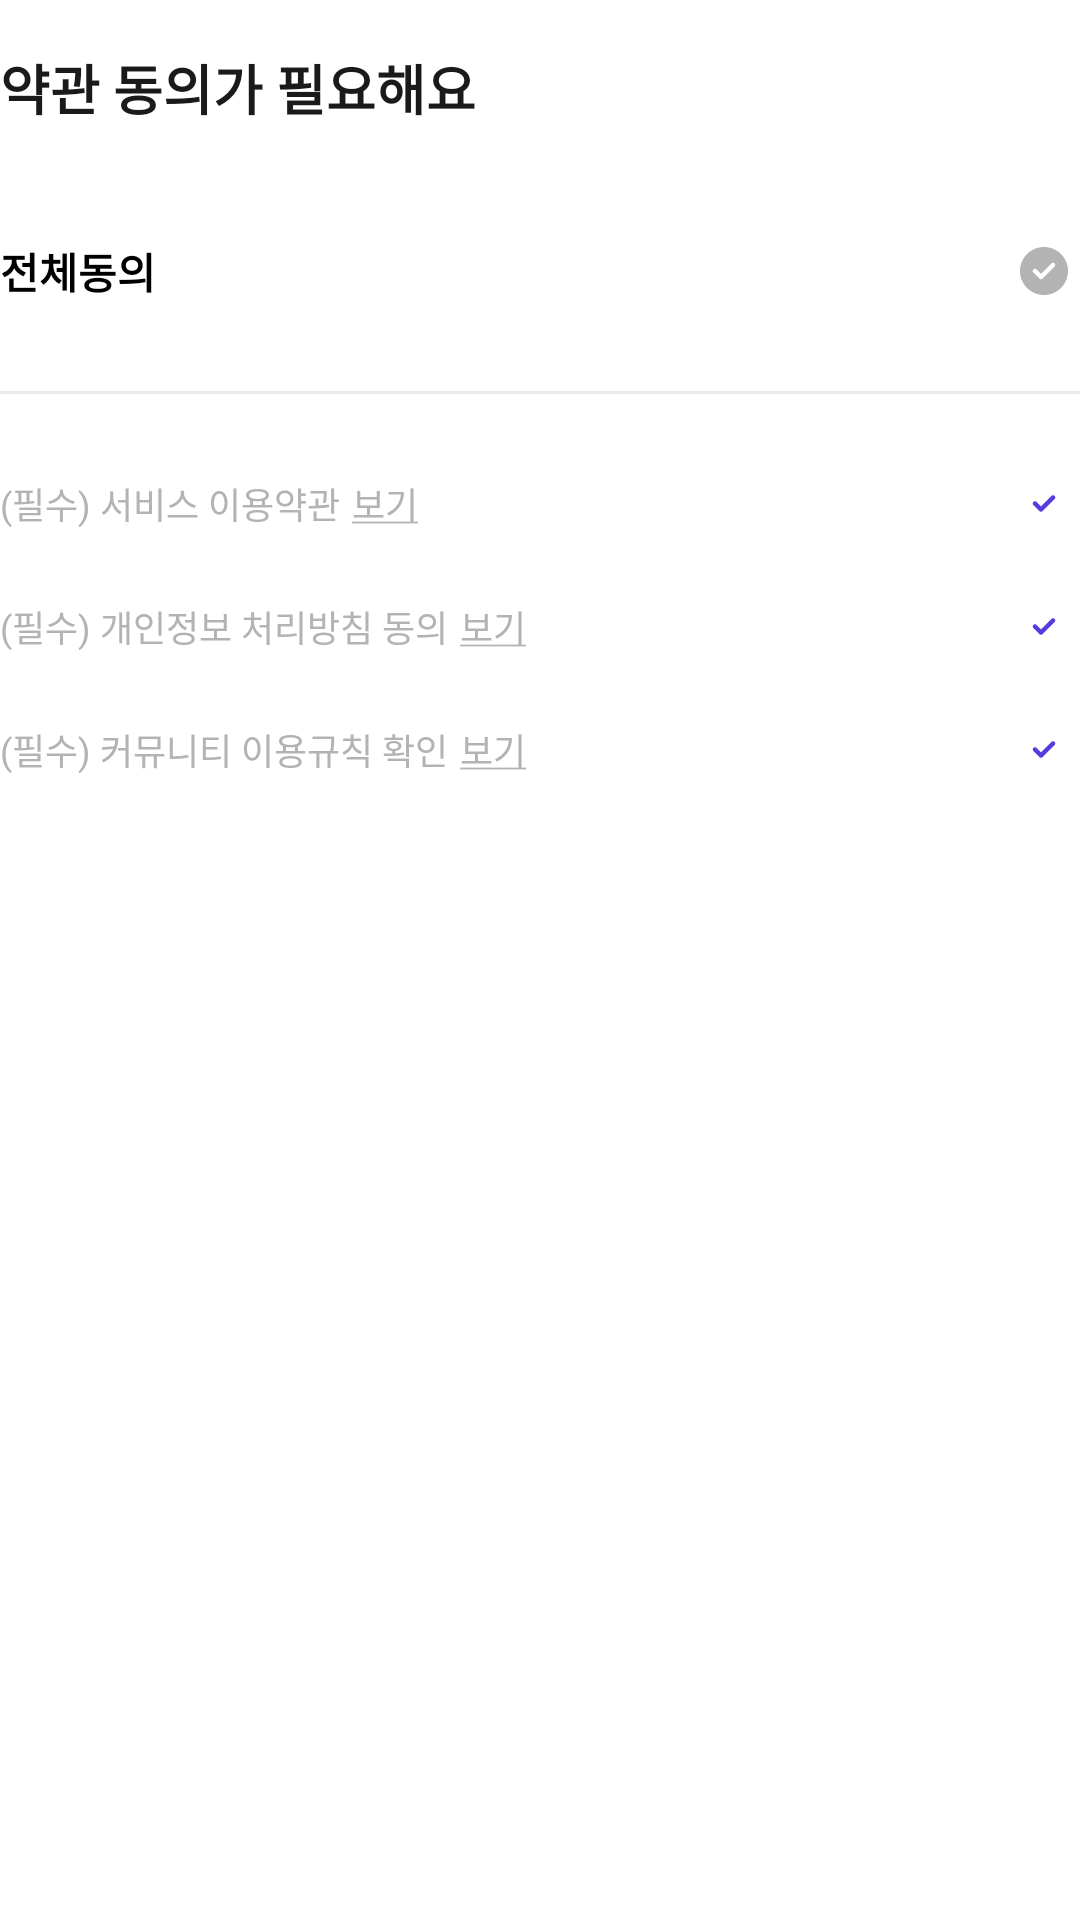

Screen size 1080px×1920px. Icon name, then its center in pixels as [x,y]:
agree: [1044,271]
agree borderless: [1044,503], [1044,626], [1044,749]
